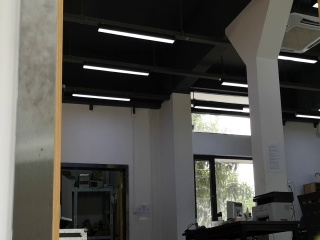room: (12, 2, 317, 237)
